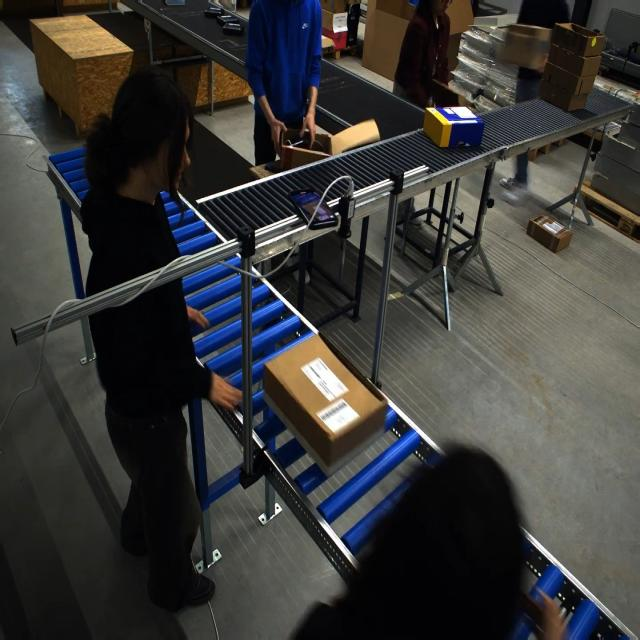box: (263, 333, 381, 474), (280, 120, 370, 172), (423, 106, 487, 149)
product: (216, 15, 240, 28), (222, 23, 243, 36), (204, 7, 224, 18), (165, 0, 186, 6)
